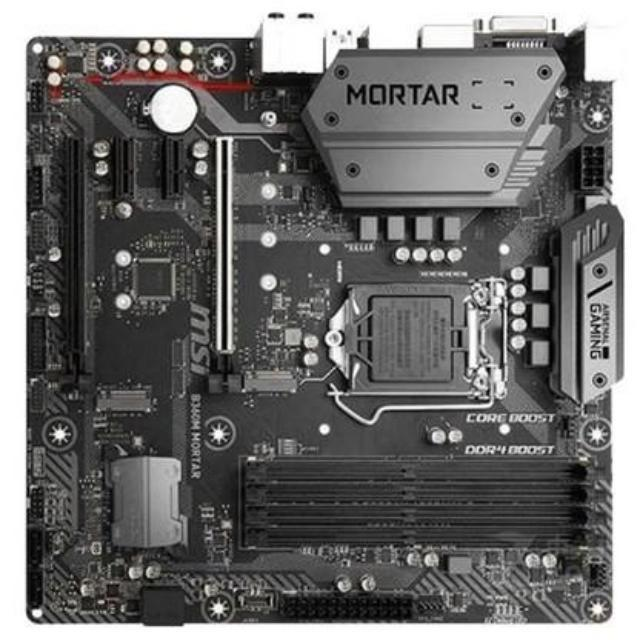Mainboard: (28, 33, 614, 622)
